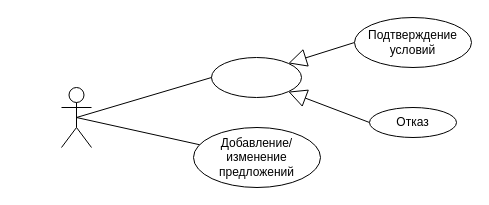
Some shapes in this 489 by 205 pixel diagram are drawn without their labels. Each missing label, with the box of its shape:
Рекламоисполнитель: (60, 86, 92, 148)
Согласование условий: (210, 56, 302, 98)
